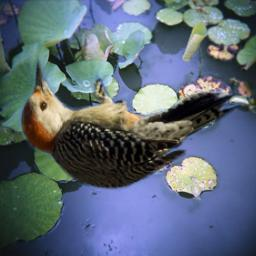Woodpecker: (2, 52, 251, 193)
